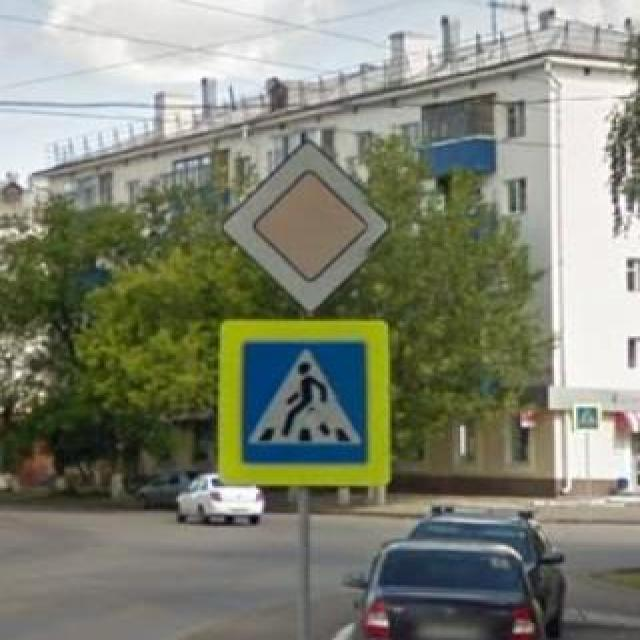traffic_sign: (218, 135, 392, 319), (218, 321, 390, 488)
